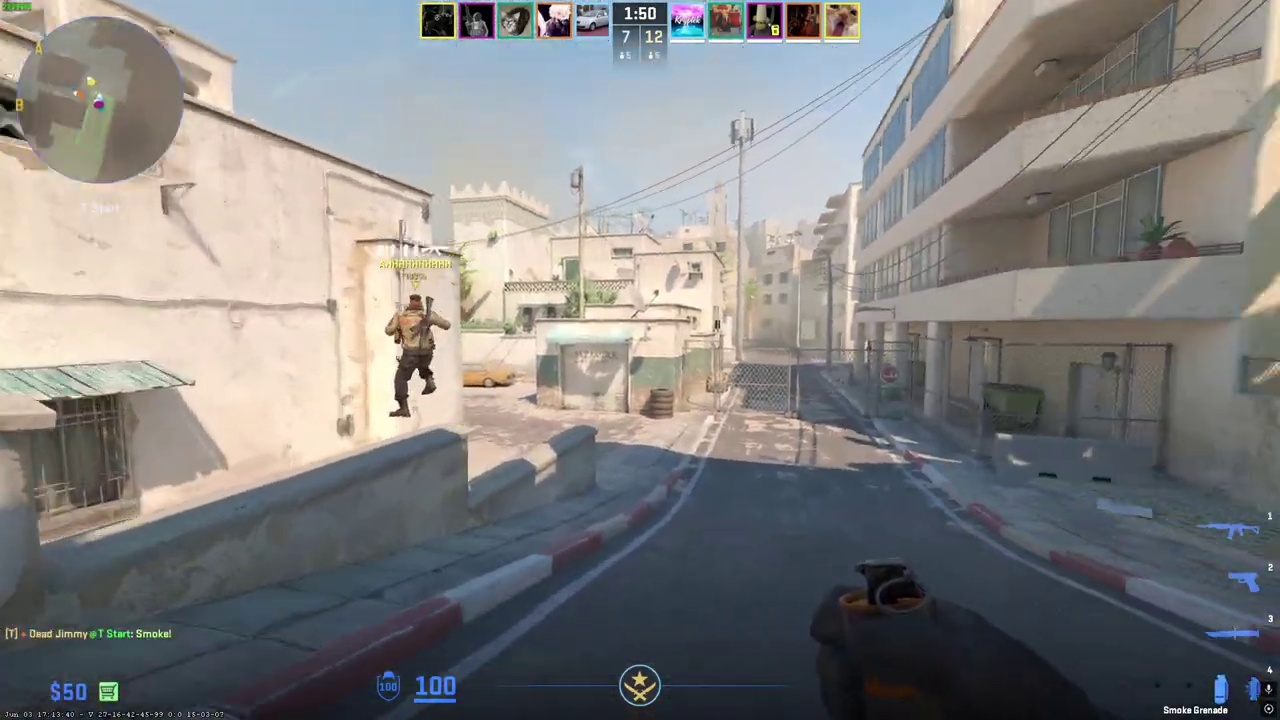Terrorist: (387, 294, 443, 417)
